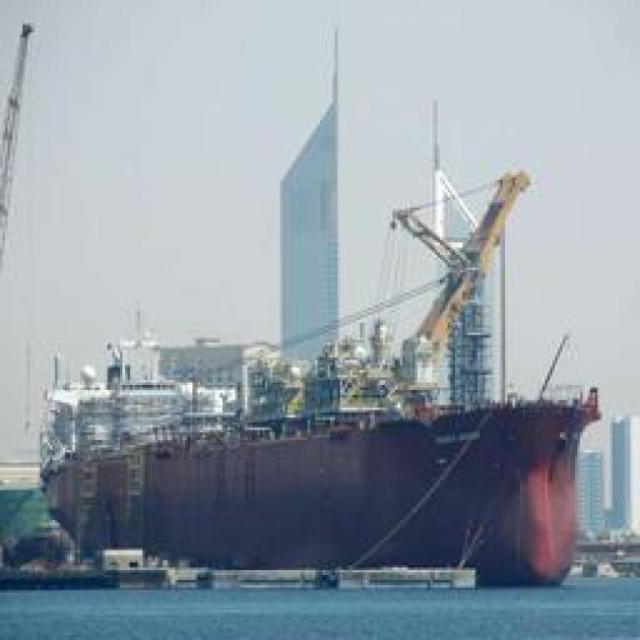boat: (34, 325, 610, 571)
